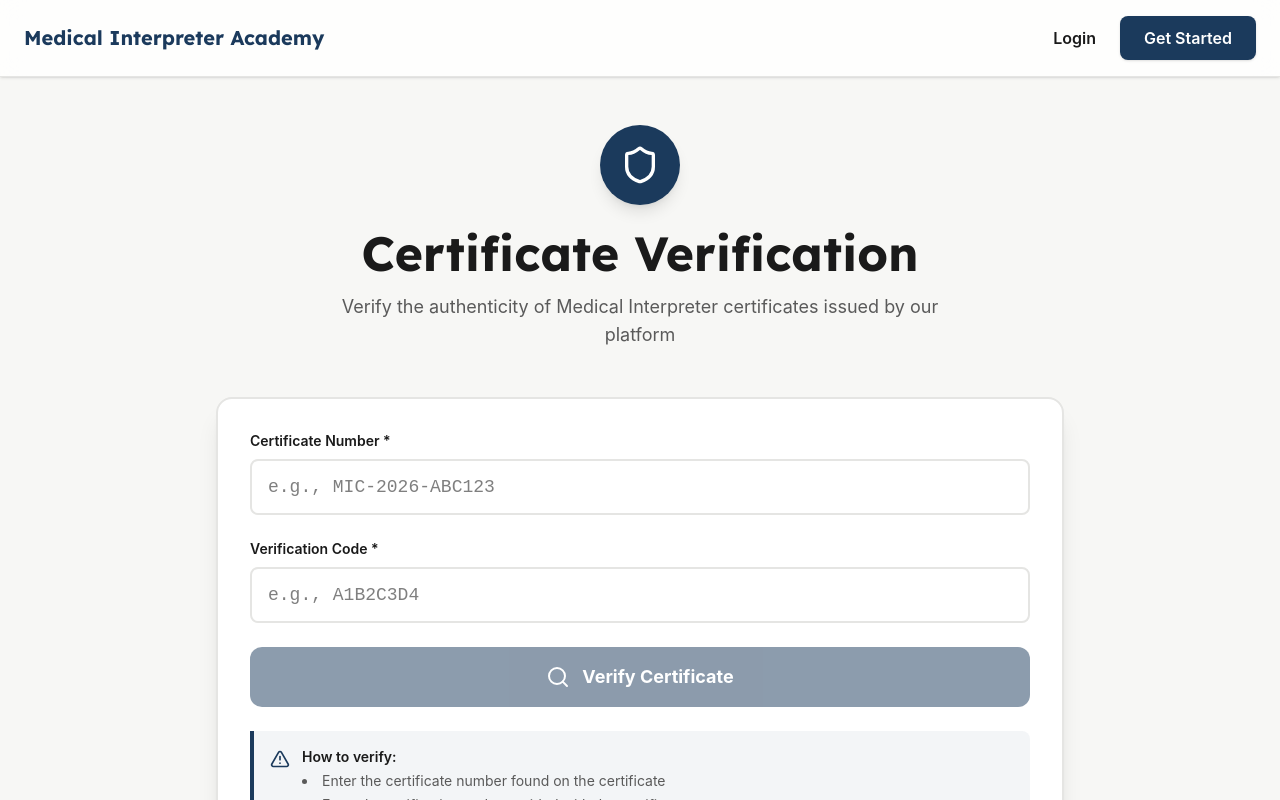
Scenario: VerifyCertificate Page › Valid Certificate Result › should display certificate number
Type "MIC-2024-001" into the field with placeholder "e.g., MIC-2026-ABC123" at (640, 487), box 250,459 -> 1030,515
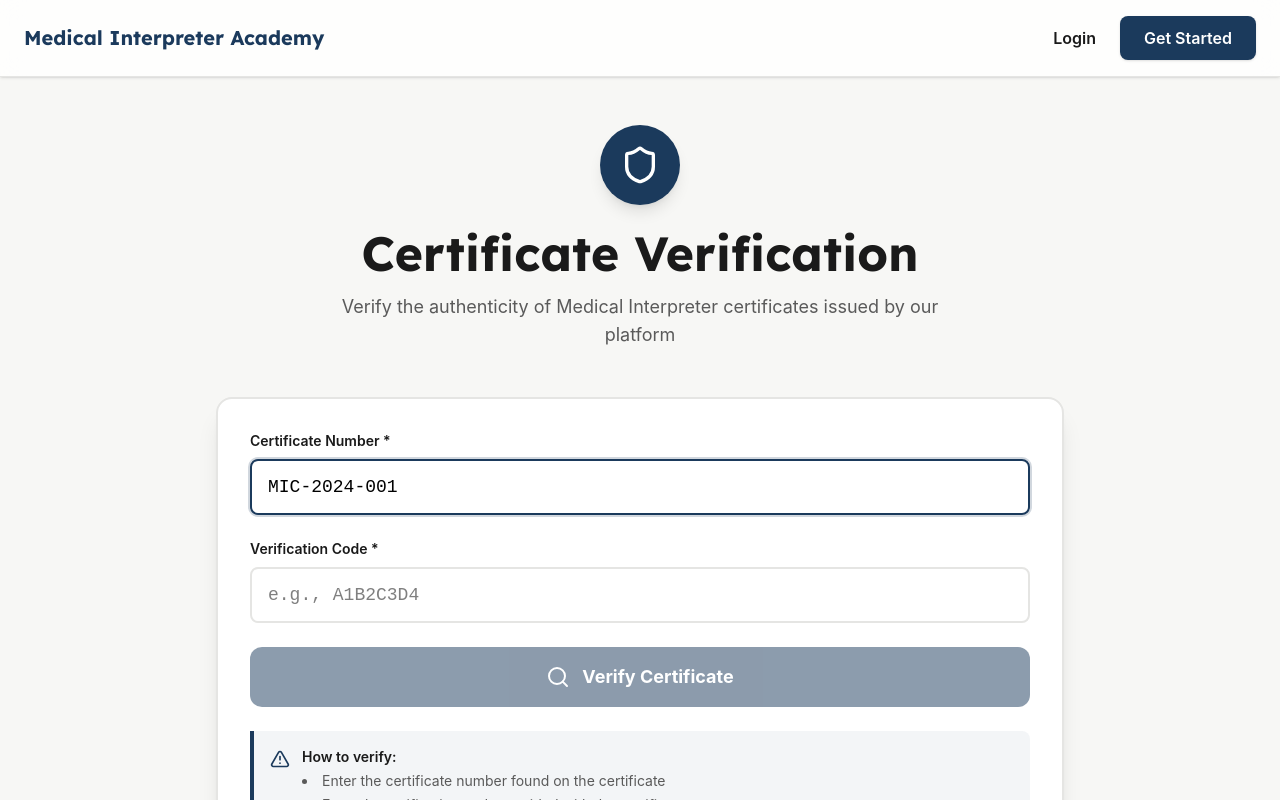
Type "ABC123" into the field with placeholder "e.g., A1B2C3D4" at (640, 595), box 250,567 -> 1030,623
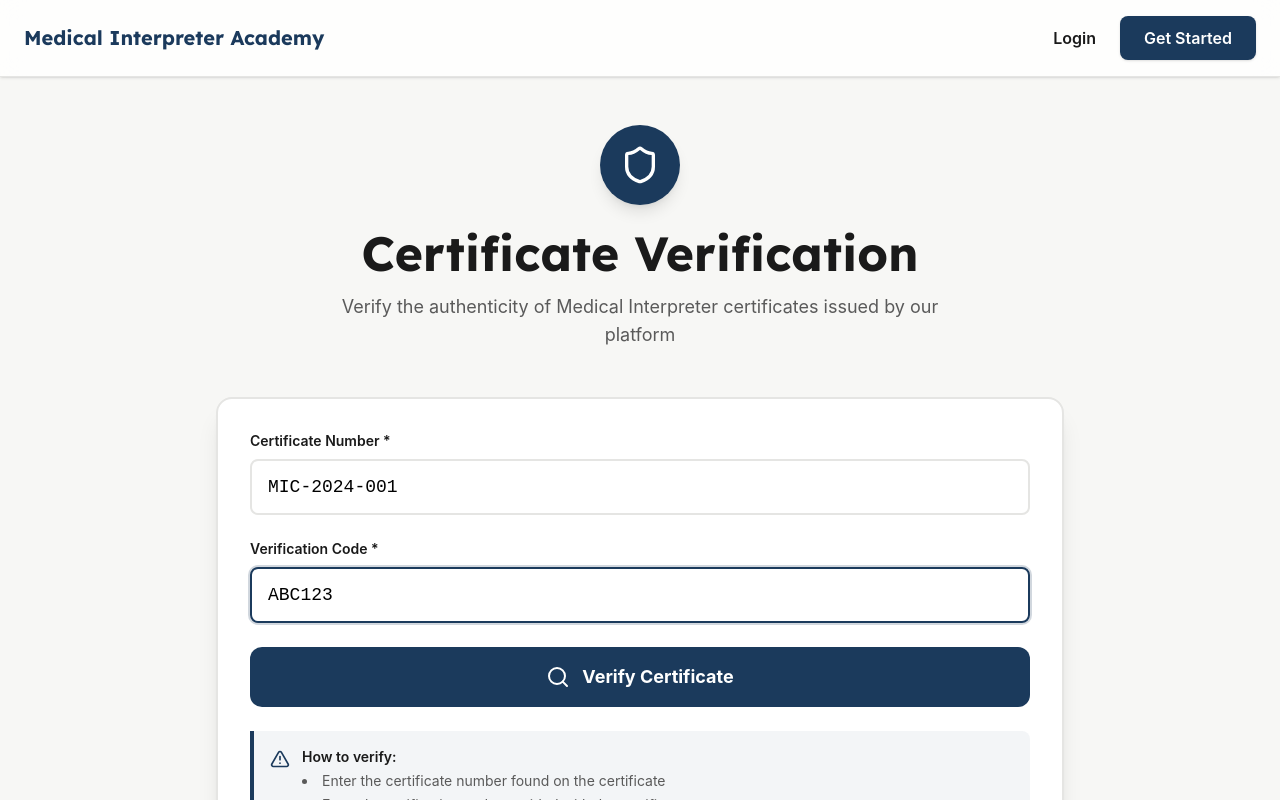
Click the button "Verify Certificate" at (640, 677), box 250,647 -> 1030,707
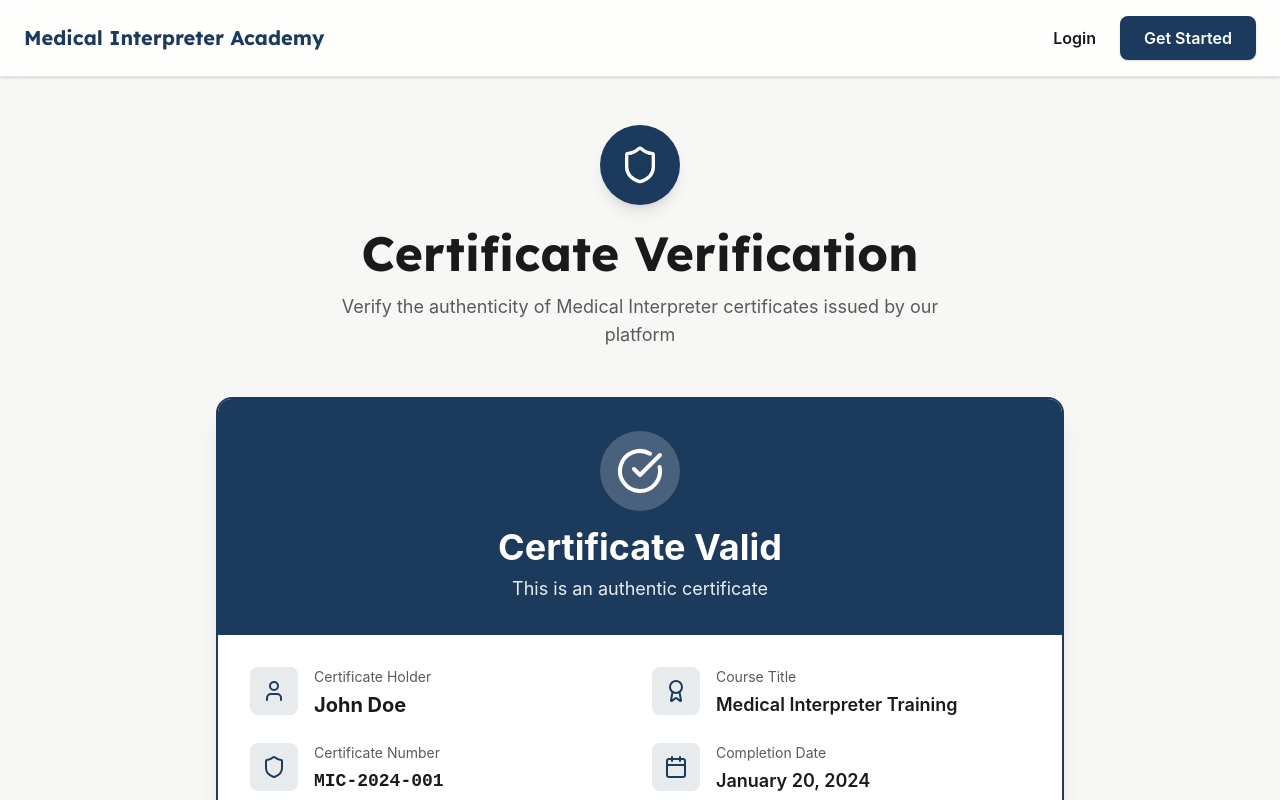
Expected: the text "Certificate Number" is shown, 314,743 -> 444,763
Expected: the text "MIC-2024-001" is shown, 314,767 -> 444,795
